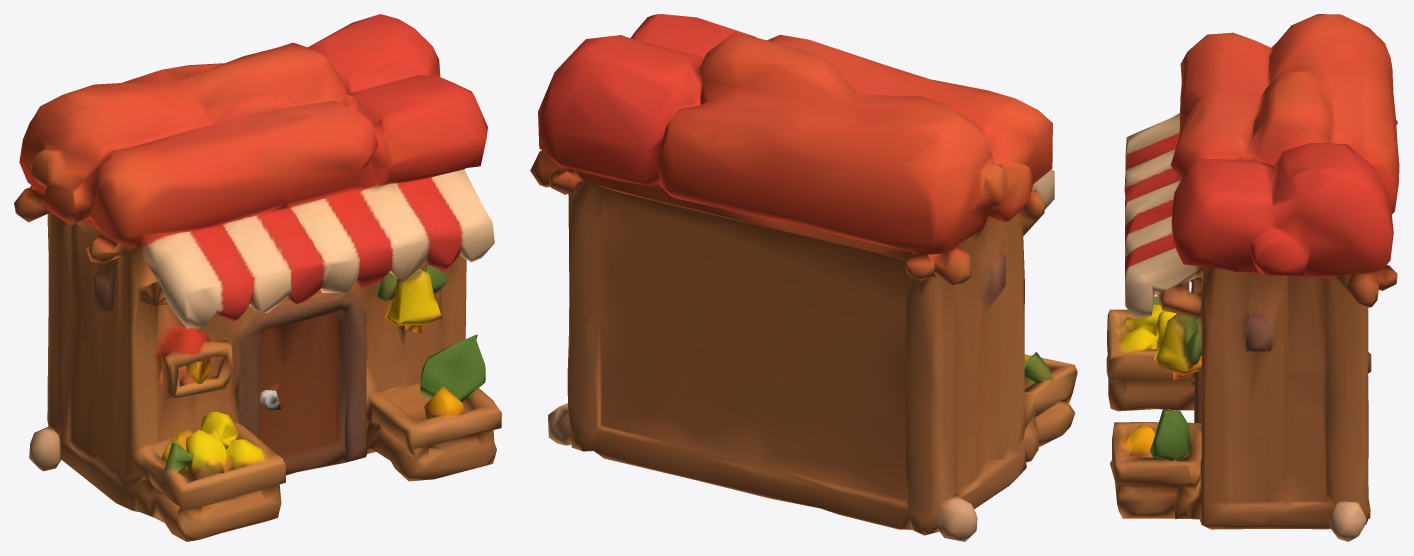
The model's file is shop_1.glb.
3 views of the same model, side by side, from view 1: azimuth 30°, elevation 25°; view 2: azimuth 150°, elevation 25°; view 3: azimuth 270°, elevation 25° (orthographic). The views are drawn at different scales.
Visible parts, largest first — view 1: tripo_node_b8ea0e5f-e0e7-4f1f-b20f-dad5094b8340; view 2: tripo_node_b8ea0e5f-e0e7-4f1f-b20f-dad5094b8340; view 3: tripo_node_b8ea0e5f-e0e7-4f1f-b20f-dad5094b8340.
Part boxes in pixels (x1,y1,x2,y2): tripo_node_b8ea0e5f-e0e7-4f1f-b20f-dad5094b8340: [14, 14, 501, 541]; tripo_node_b8ea0e5f-e0e7-4f1f-b20f-dad5094b8340: [530, 14, 1077, 541]; tripo_node_b8ea0e5f-e0e7-4f1f-b20f-dad5094b8340: [1106, 14, 1399, 541].
Size of the model in its own units: 1 by 0.8857 by 0.6303.
1 material, 1 textured.
